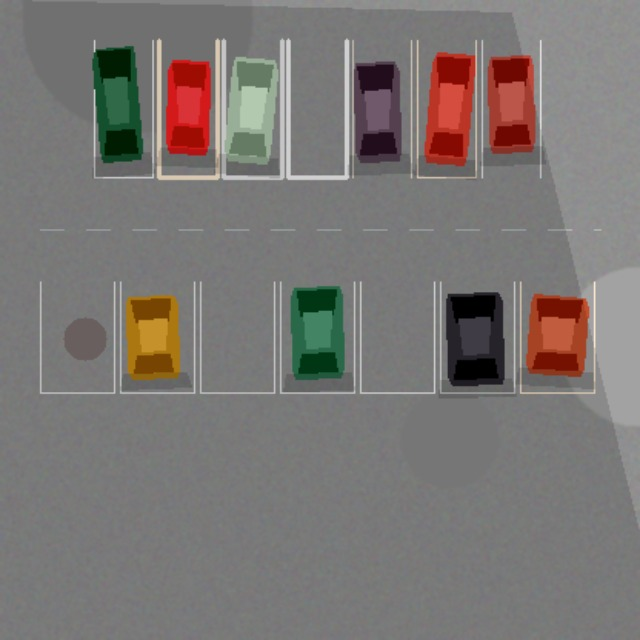space-empty: (40, 282, 114, 392), (200, 282, 274, 392), (360, 282, 434, 392), (288, 40, 346, 177)
space-occupied: (120, 282, 194, 392), (280, 282, 354, 392), (440, 282, 514, 392), (520, 282, 594, 392), (158, 40, 217, 177), (223, 40, 282, 177), (352, 40, 411, 177), (94, 40, 152, 177), (417, 40, 475, 177), (482, 40, 540, 177)
